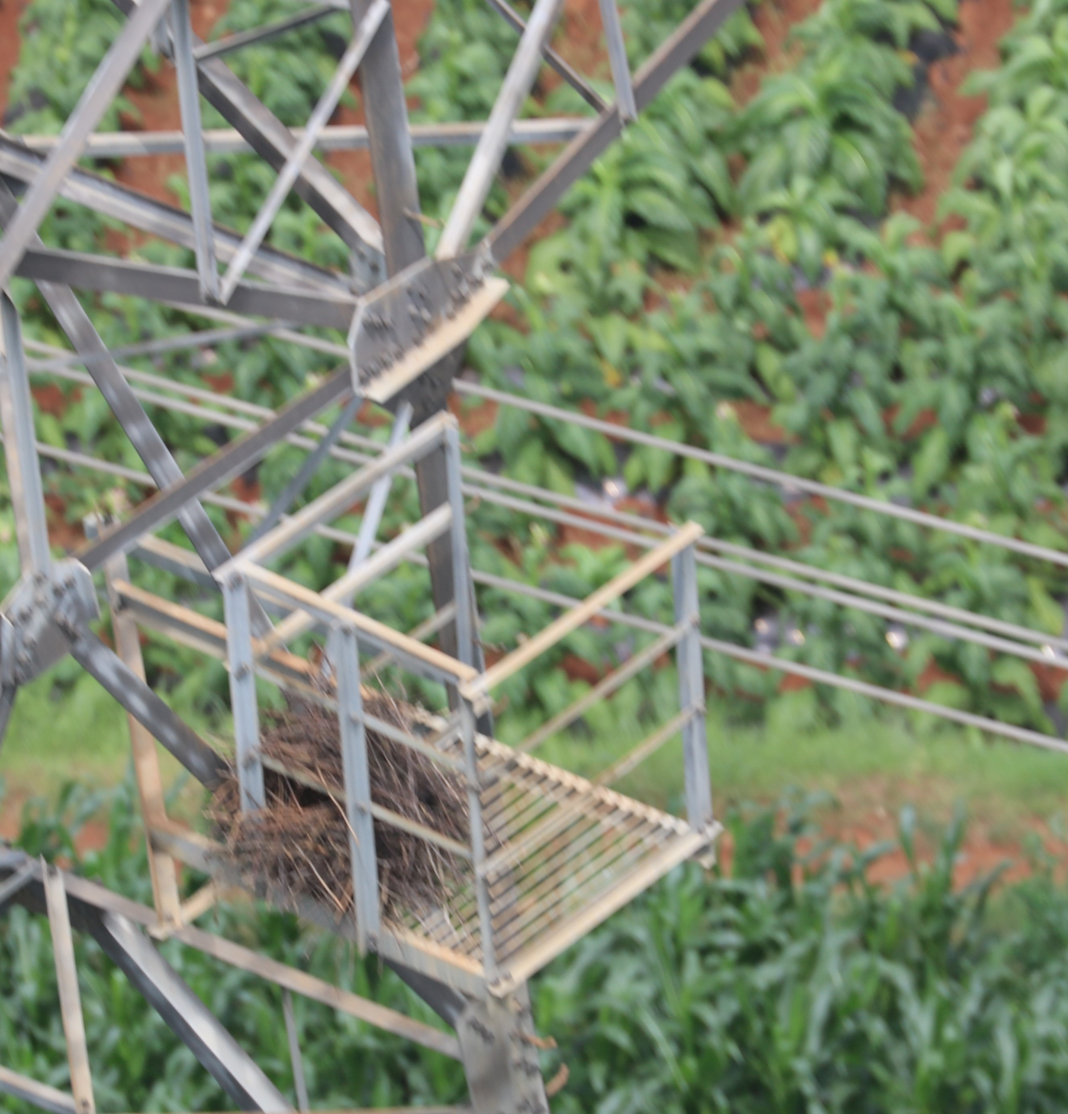nest: (229, 680, 479, 914)
